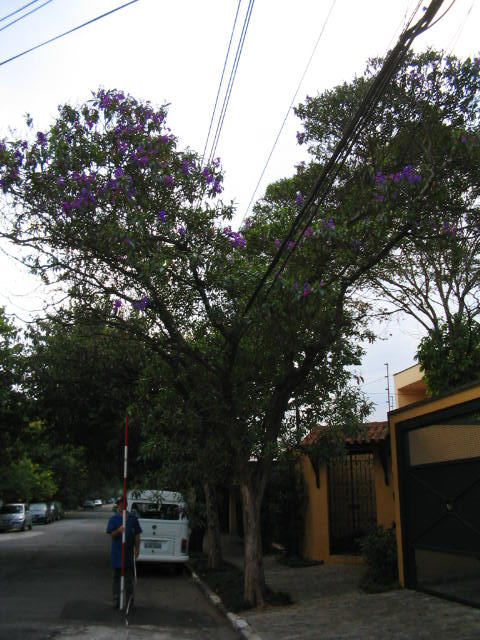stem: (228, 489, 277, 610)
stick: (113, 413, 133, 616)
tree: (1, 44, 480, 612)
